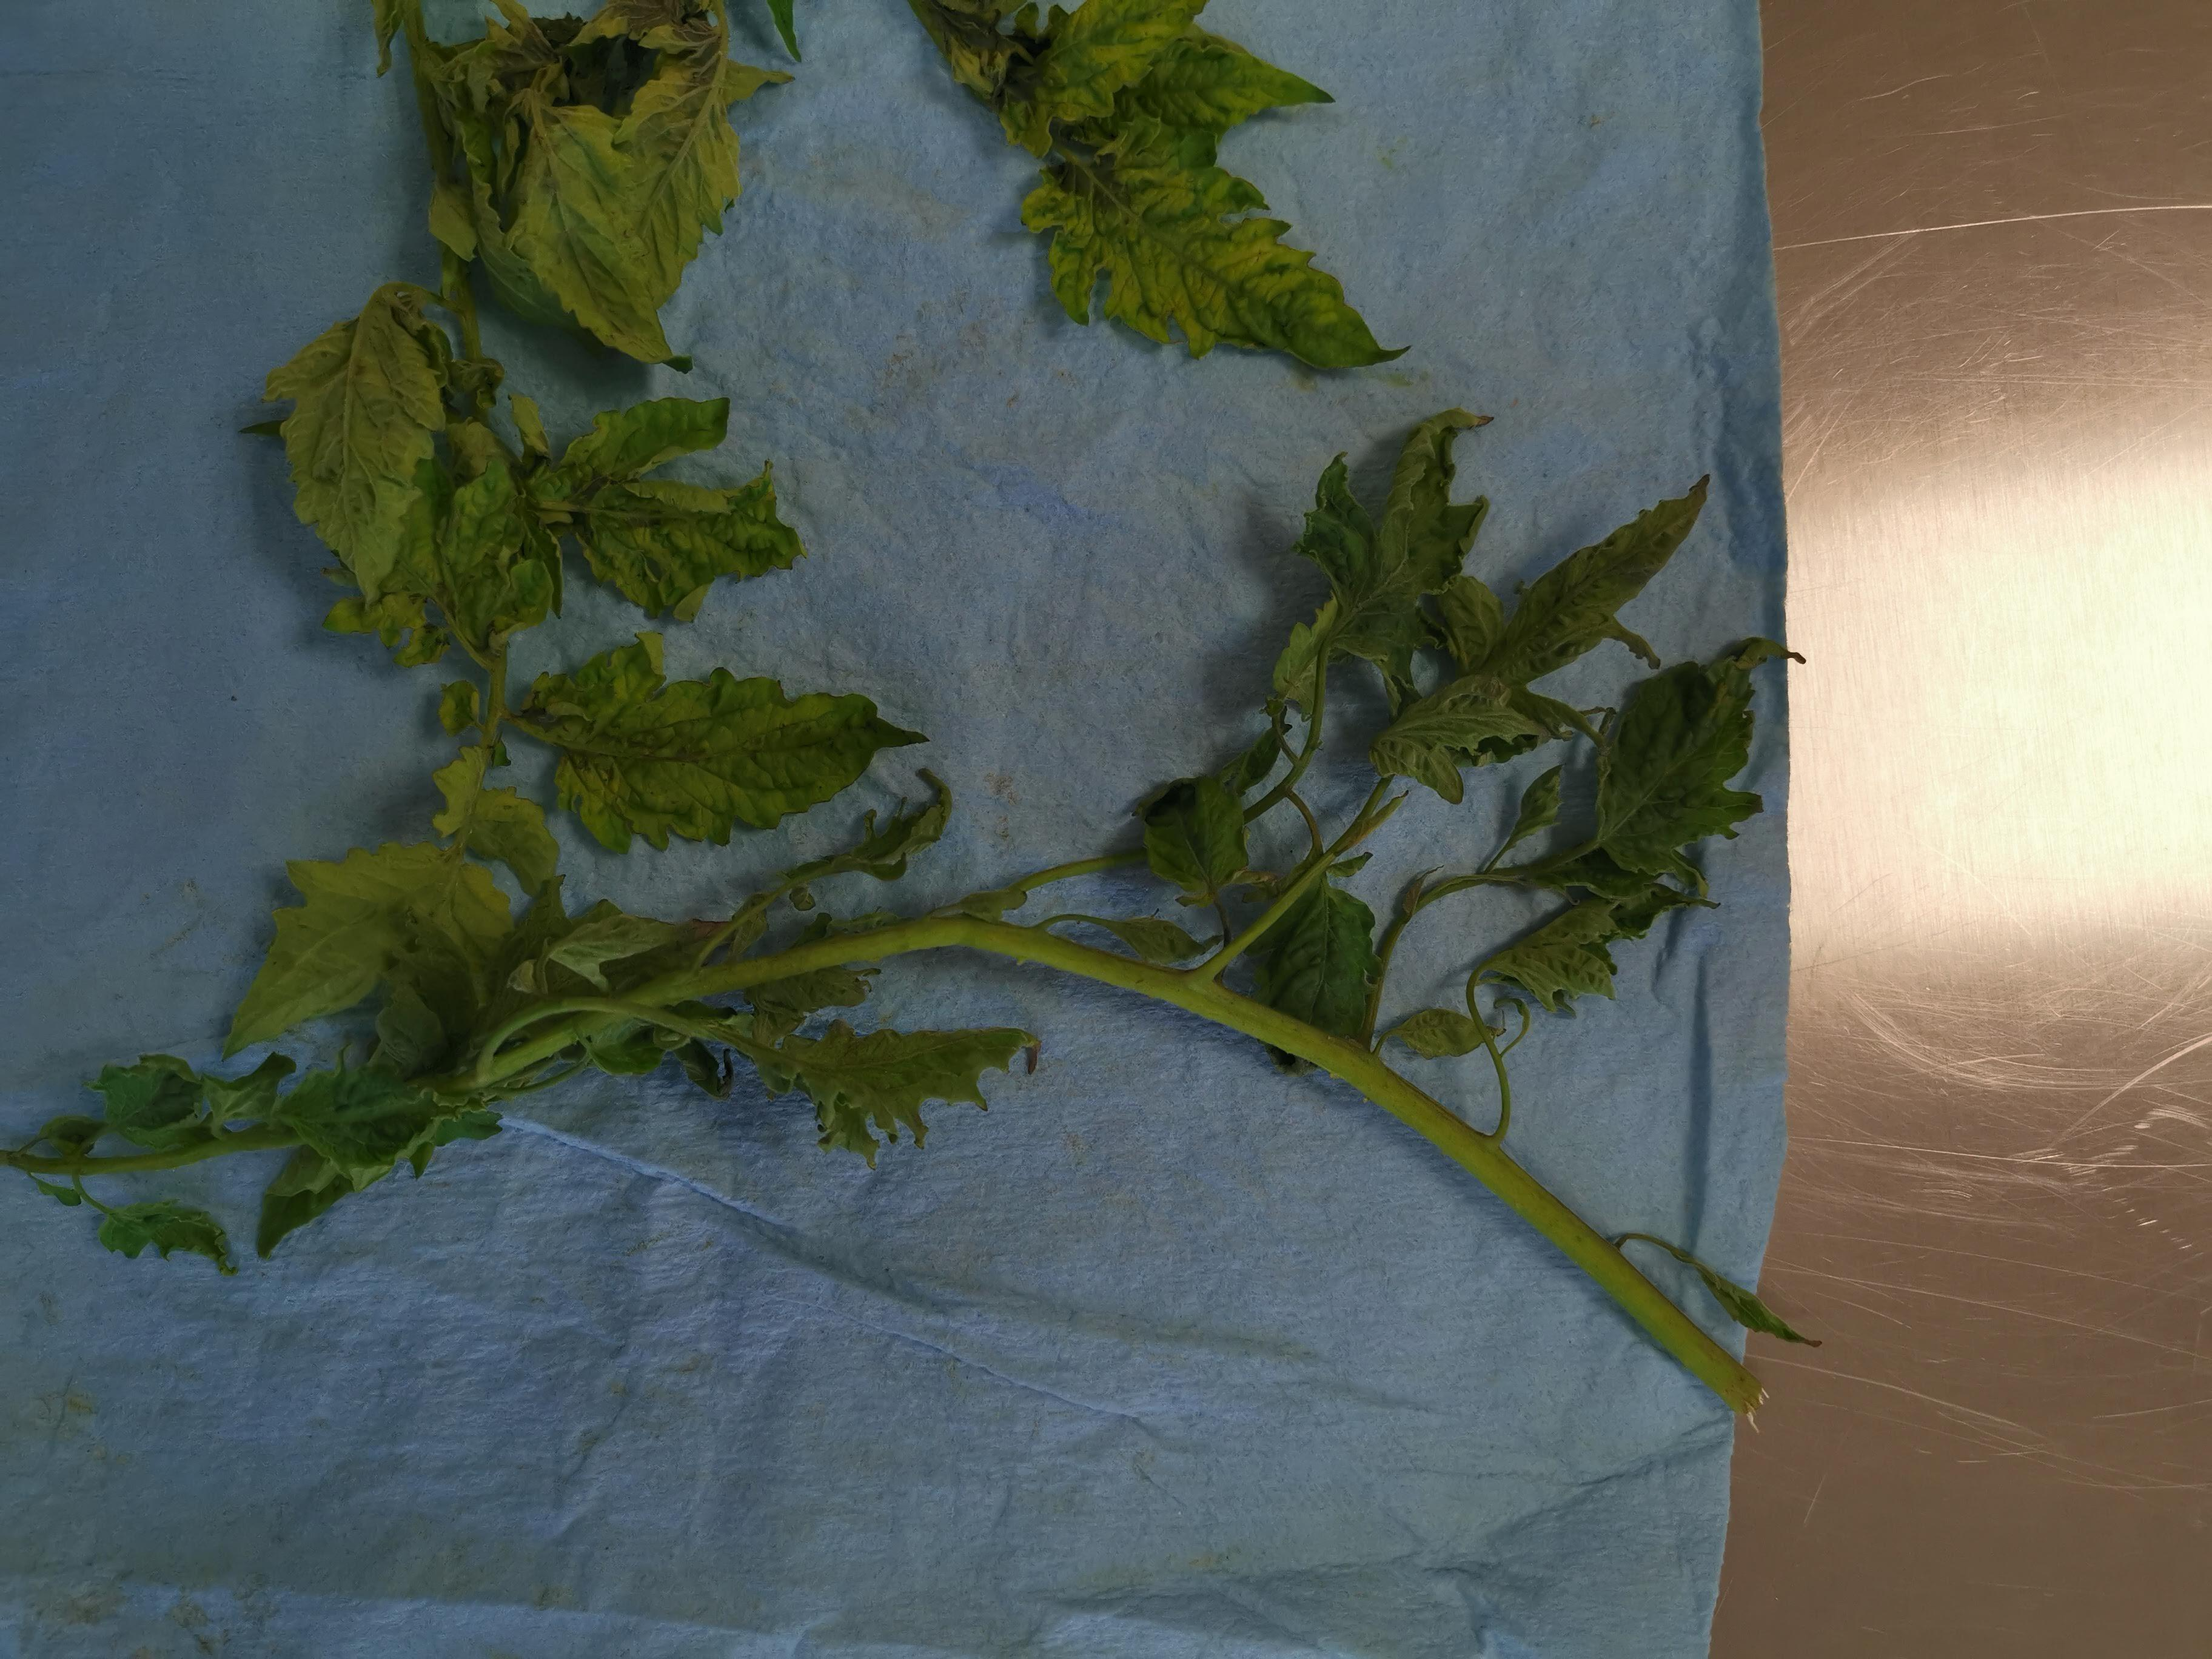Hoja rugoso: (1024, 117, 1400, 368), (514, 640, 899, 847), (263, 286, 449, 601), (1296, 411, 1491, 666), (613, 17, 782, 303), (1477, 479, 1707, 687), (225, 847, 437, 1054), (752, 1019, 1033, 1162), (505, 105, 662, 354), (575, 467, 803, 622), (1599, 660, 1763, 877), (998, 0, 1205, 155), (376, 864, 510, 1072), (1139, 725, 1287, 903), (1118, 26, 1331, 134), (1369, 674, 1543, 803), (277, 1066, 444, 1188), (782, 769, 951, 885), (1256, 880, 1381, 1037), (549, 397, 730, 497), (1482, 899, 1616, 1011), (549, 903, 678, 990), (91, 1054, 204, 1148), (99, 1201, 237, 1274), (467, 786, 557, 894), (1275, 622, 1322, 718)
Pedunculo rugoso: (756, 911, 1763, 1417), (82, 1127, 294, 1175)
